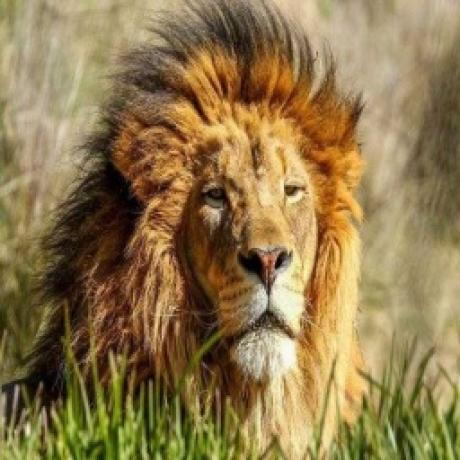Lion: (14, 0, 372, 460)
